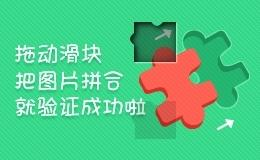target: (113, 2, 155, 42)
